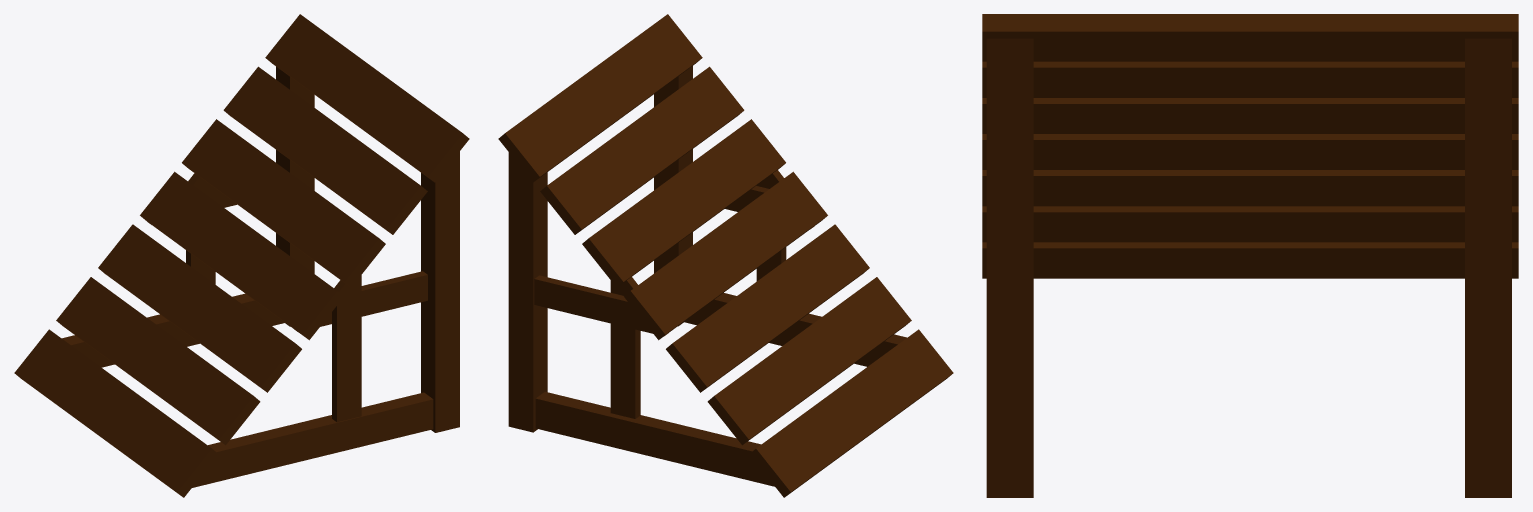
Rendered from Rampa.fbx.
3 views of the same model, side by side, from view 1: azimuth 30°, elevation 25°; view 2: azimuth 150°, elevation 25°; view 3: azimuth 270°, elevation 25° (orthographic). The views are drawn at different scales.
Visible parts, largest first — view 1: Ramp; view 2: Ramp; view 3: Ramp.
Part boxes in pixels (left/top/right/bottom): Ramp: left=14, top=14, right=469, bottom=497; Ramp: left=498, top=14, right=953, bottom=497; Ramp: left=982, top=14, right=1518, bottom=497.
Size of the model in its own units: 98.2 by 95.15 by 94.65.
